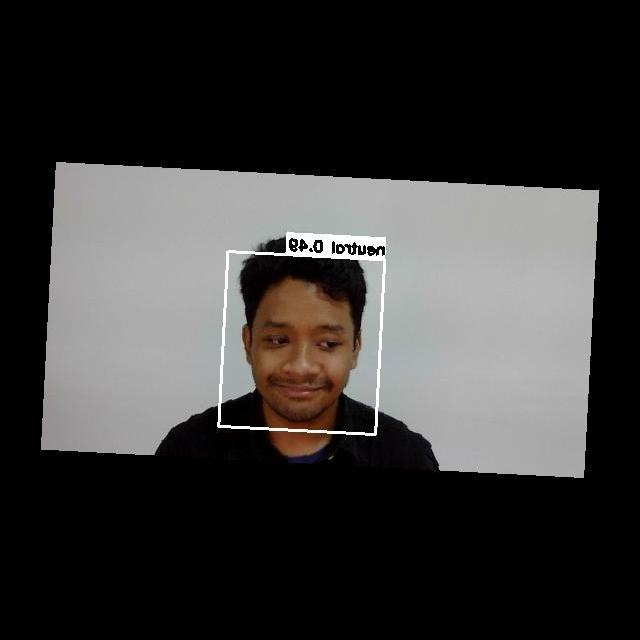Happy: (248, 308, 350, 420)
